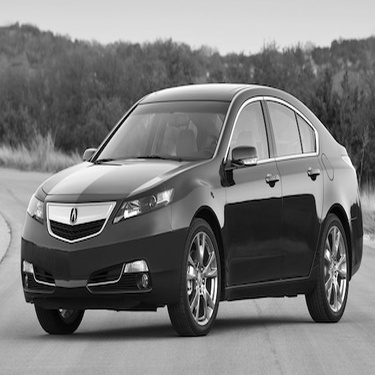car: (2, 78, 367, 342)
